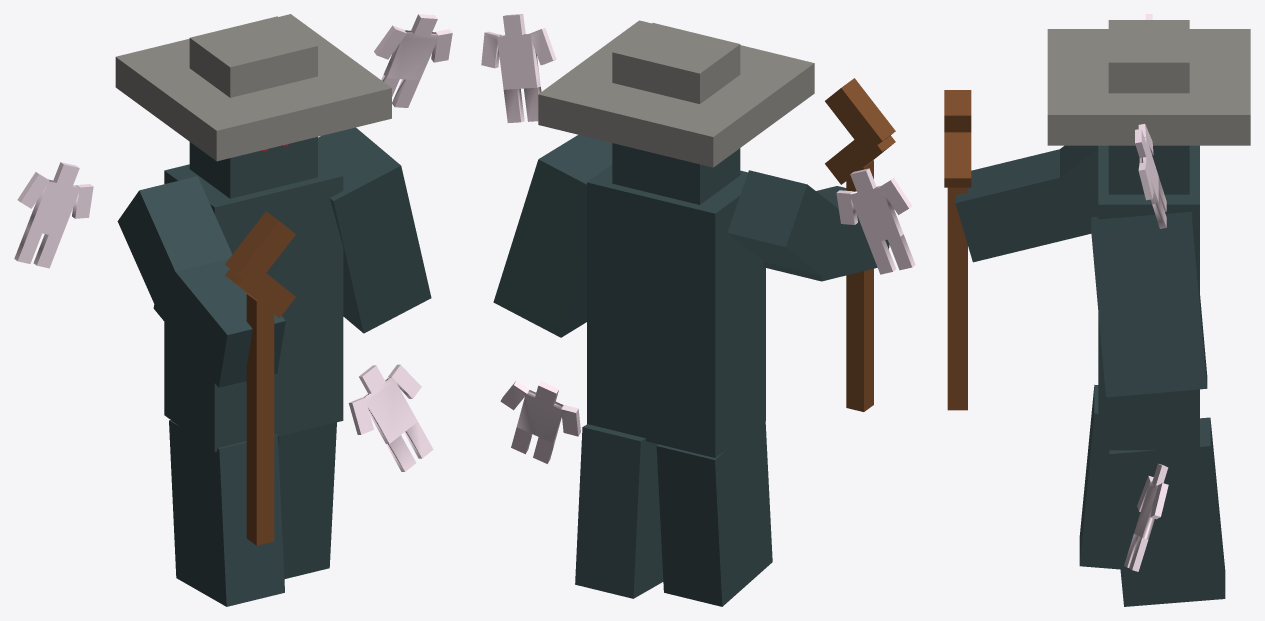
Rendered from ArtfulMagician.fbx.
3 renders of one model, left to right at view 1: azimuth 30°, elevation 25°; view 2: azimuth 150°, elevation 25°; view 3: azimuth 270°, elevation 25°, orthographic.
Parts seen in each view (by area): view 1: Cube.001, Cube.011, Cube.007, Cube.012, Cube.025, Cube.019, Cube.013; view 2: Cube.001, Cube.011, Cube.007, Cube.012, Cube.013, Cube.019, Cube.025; view 3: Cube.001, Cube.011, Cube.007, Cube.012, Cube.025, Cube.013.
Boxes of the visible parts, x1,y1,x2,y2 form: Cube.001: (117, 127, 431, 606); Cube.011: (115, 14, 391, 161); Cube.007: (225, 211, 295, 545); Cube.012: (189, 16, 317, 97); Cube.025: (348, 364, 433, 471); Cube.019: (14, 162, 93, 268); Cube.013: (374, 14, 452, 107); Cube.001: (493, 135, 894, 606); Cube.011: (538, 20, 814, 167); Cube.007: (825, 78, 895, 411); Cube.012: (612, 23, 740, 103); Cube.013: (481, 14, 556, 122); Cube.019: (836, 168, 915, 274); Cube.025: (500, 380, 580, 463); Cube.001: (955, 145, 1225, 606); Cube.011: (1047, 29, 1250, 145); Cube.007: (944, 90, 971, 410); Cube.012: (1108, 20, 1189, 93); Cube.025: (1124, 463, 1168, 571); Cube.013: (1135, 124, 1166, 228).
Size of the model in its own units: 148 by 174 by 90.54.
